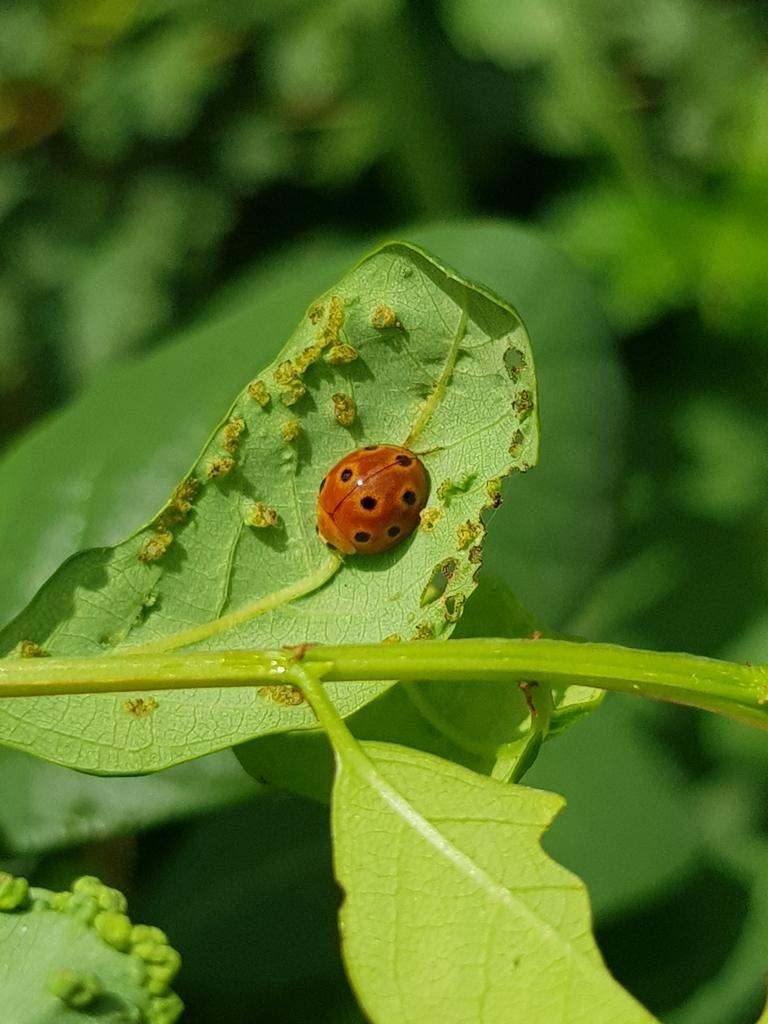ladybug: (314, 441, 434, 561)
